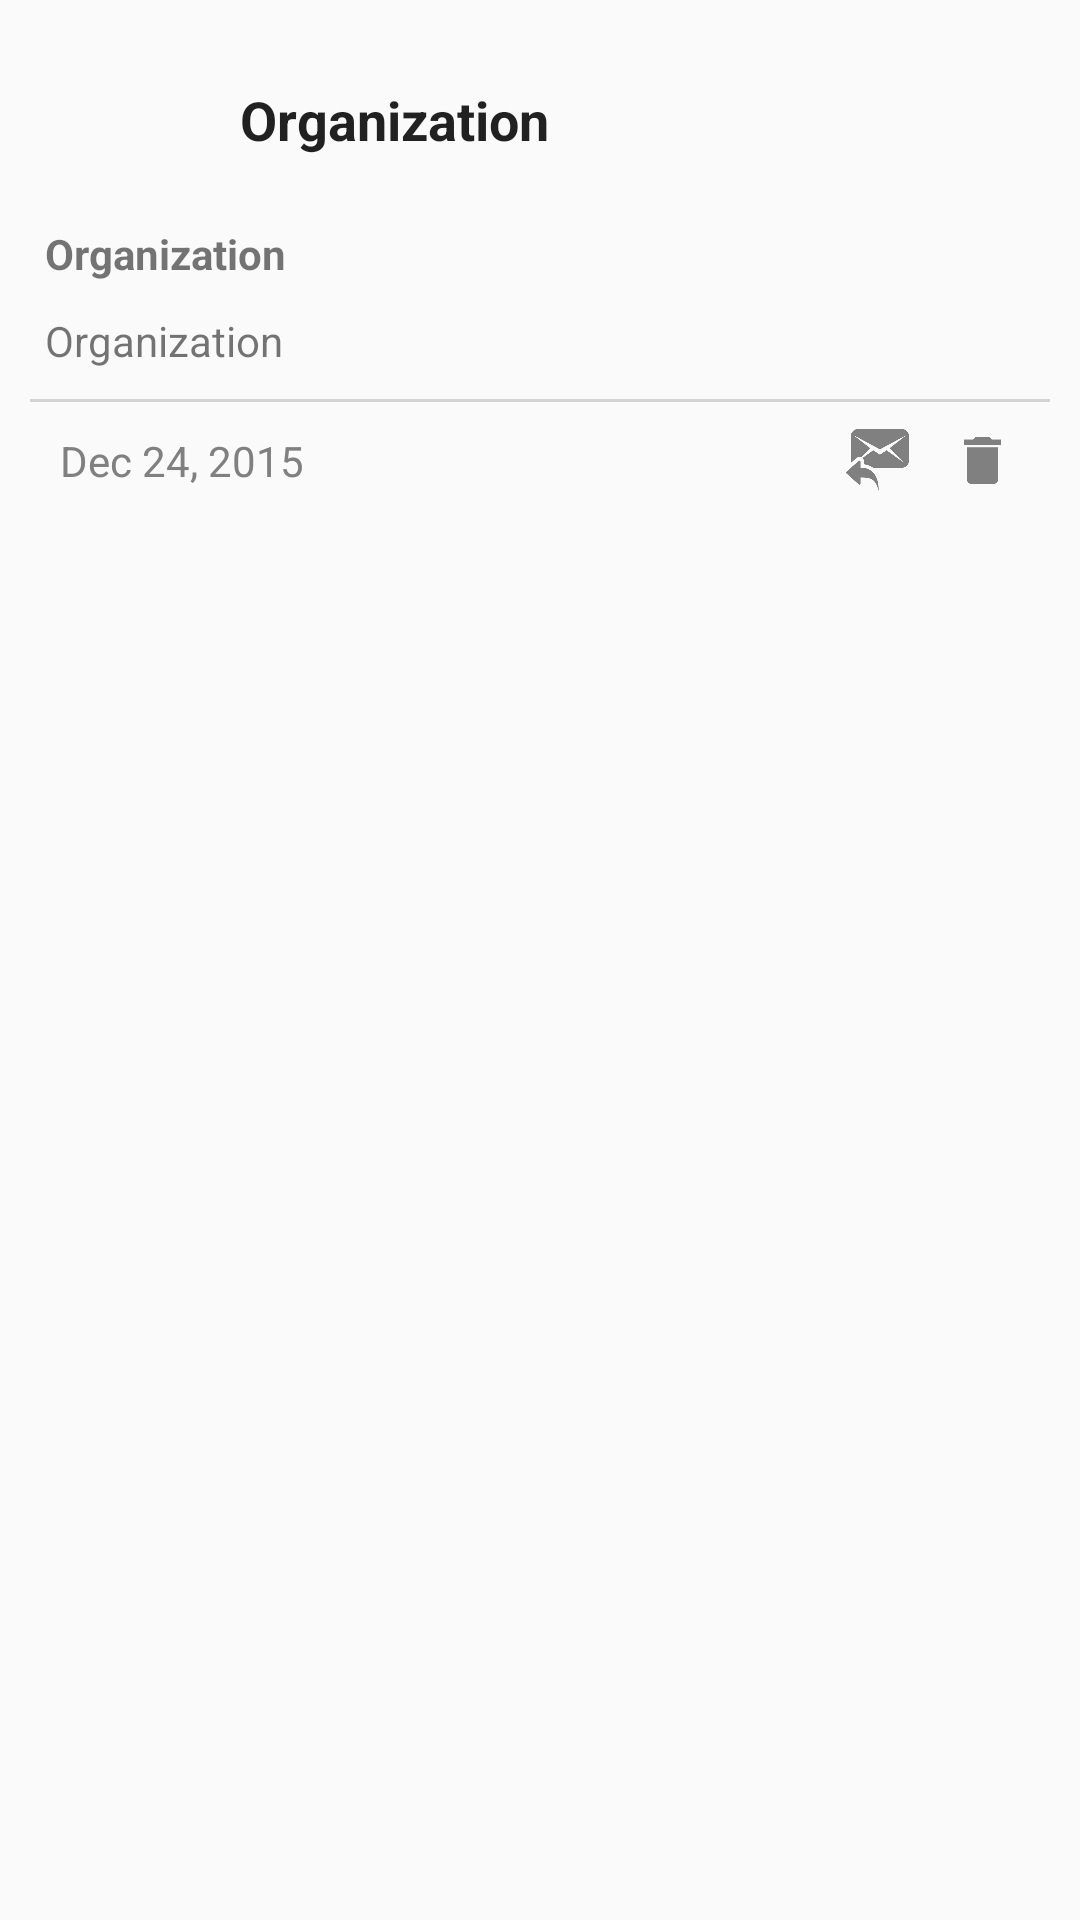

Icon bounding boxes for this 1080*1920 phone screenshot, format [x1=x1, y1=y1, x2=x2, y2=y2]:
delete: [x1=964, y1=437, x2=1001, y2=484]
message reply: [x1=846, y1=429, x2=909, y2=490]
